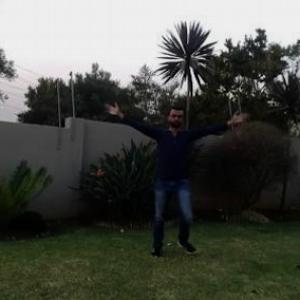takeoff: (107, 97, 238, 250)
